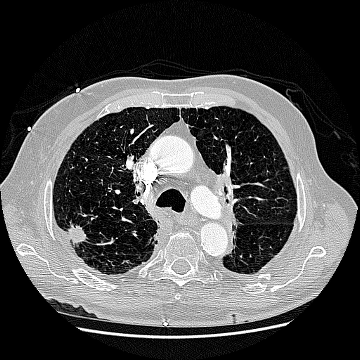nodule: (67, 224, 85, 242)
